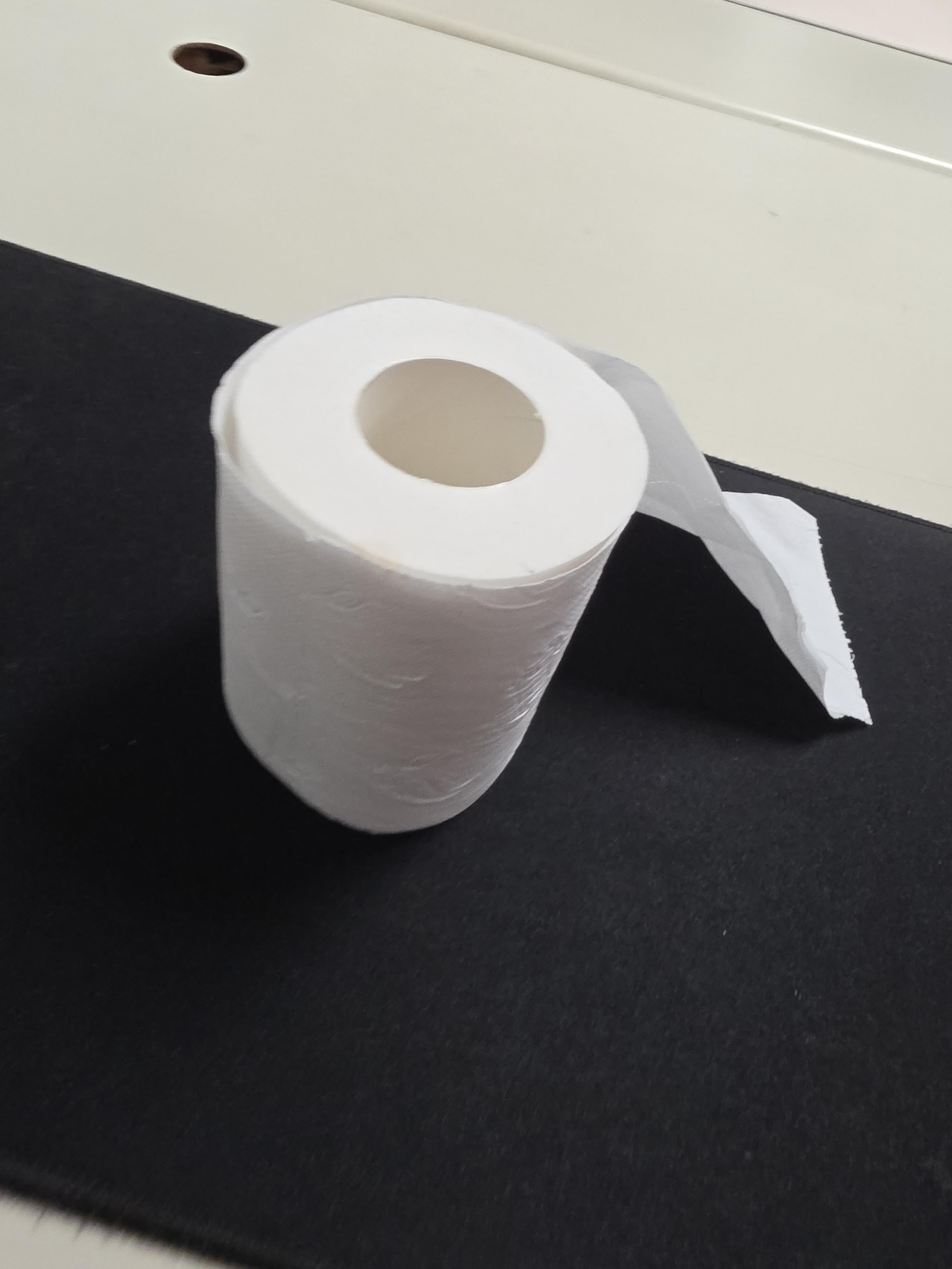tissue: (209, 296, 873, 835)
